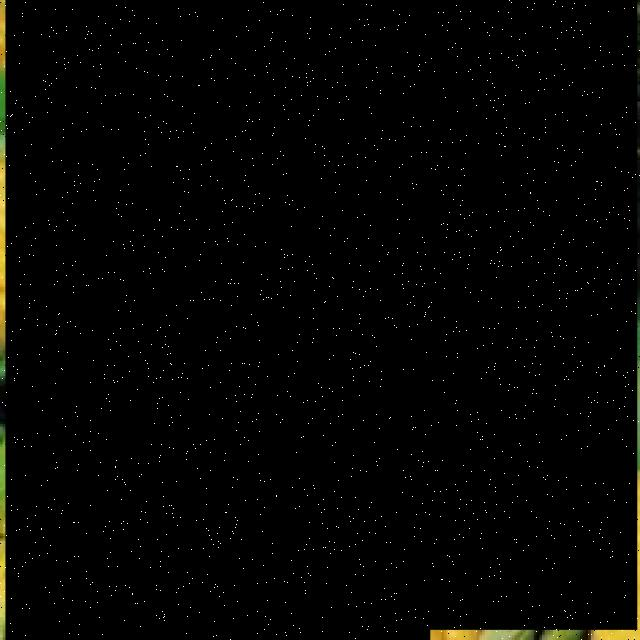Corn: (5, 0, 430, 640), (248, 3, 637, 630)
